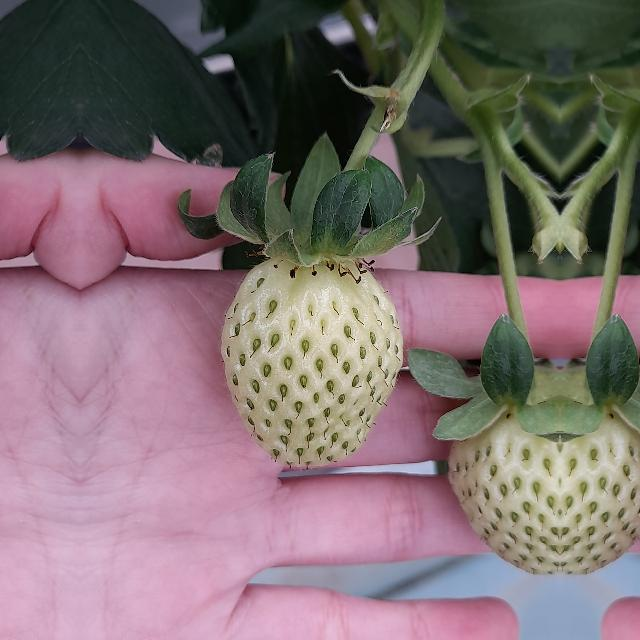Health_25: (221, 258, 403, 466), (446, 372, 560, 582), (560, 372, 640, 582)
